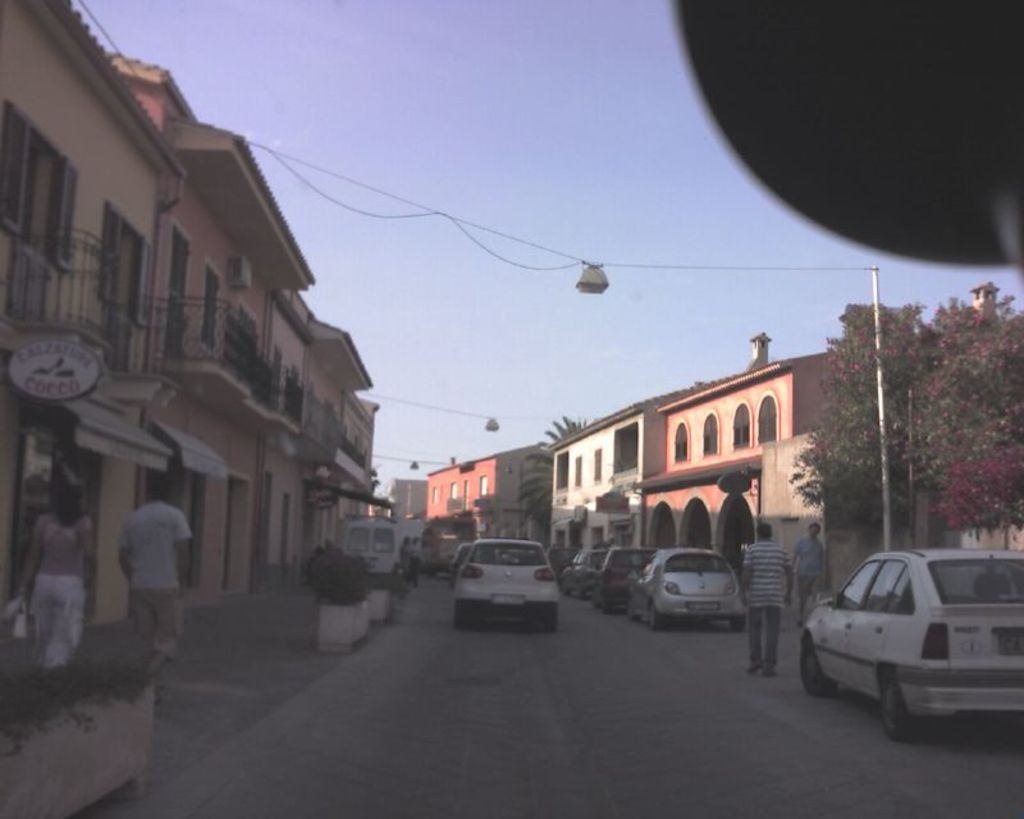cars: (799, 544, 1011, 736), (627, 541, 747, 630), (451, 537, 561, 618), (589, 545, 651, 607), (562, 543, 606, 588), (449, 541, 470, 569)
